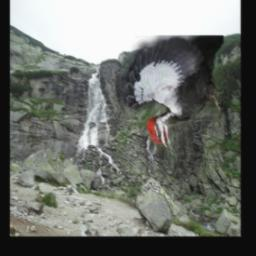Woodpecker: (126, 36, 224, 162)
